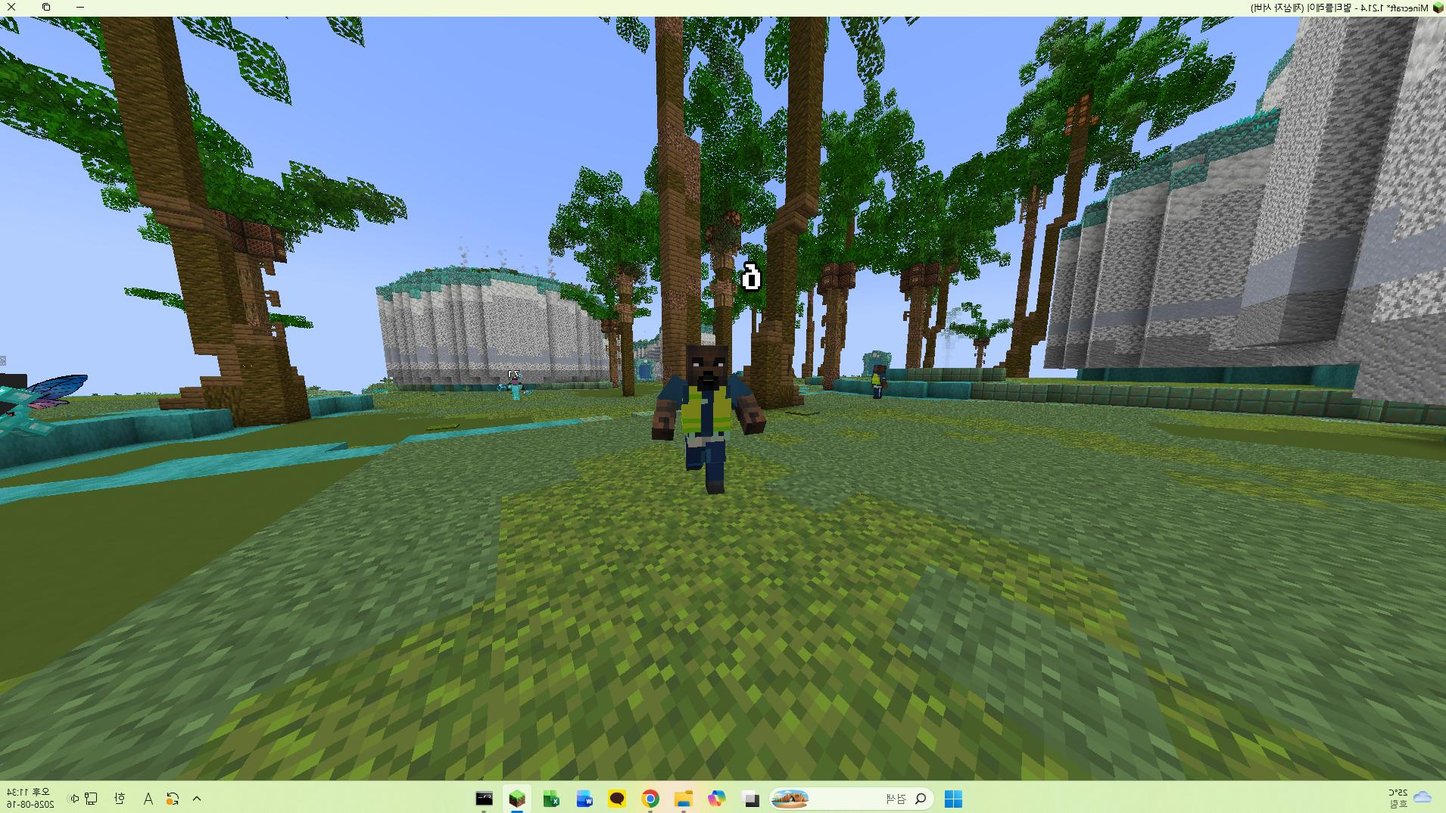Guardian: (652, 344, 766, 493), (864, 352, 890, 398)
